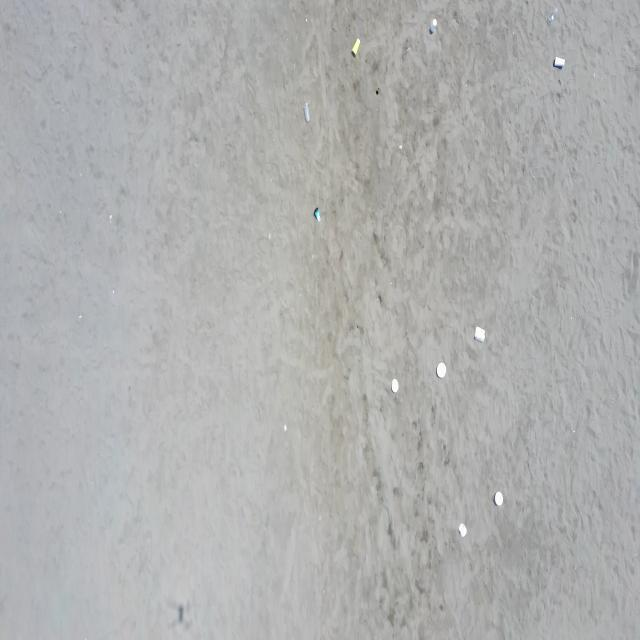take-away-containers: (436, 360, 448, 380), (474, 324, 486, 344), (494, 488, 504, 508), (459, 523, 468, 538), (392, 378, 399, 395)
takeaway-cup: (547, 7, 558, 26), (303, 101, 311, 123), (352, 38, 361, 57), (554, 56, 566, 70), (430, 18, 438, 35), (314, 206, 321, 223)
